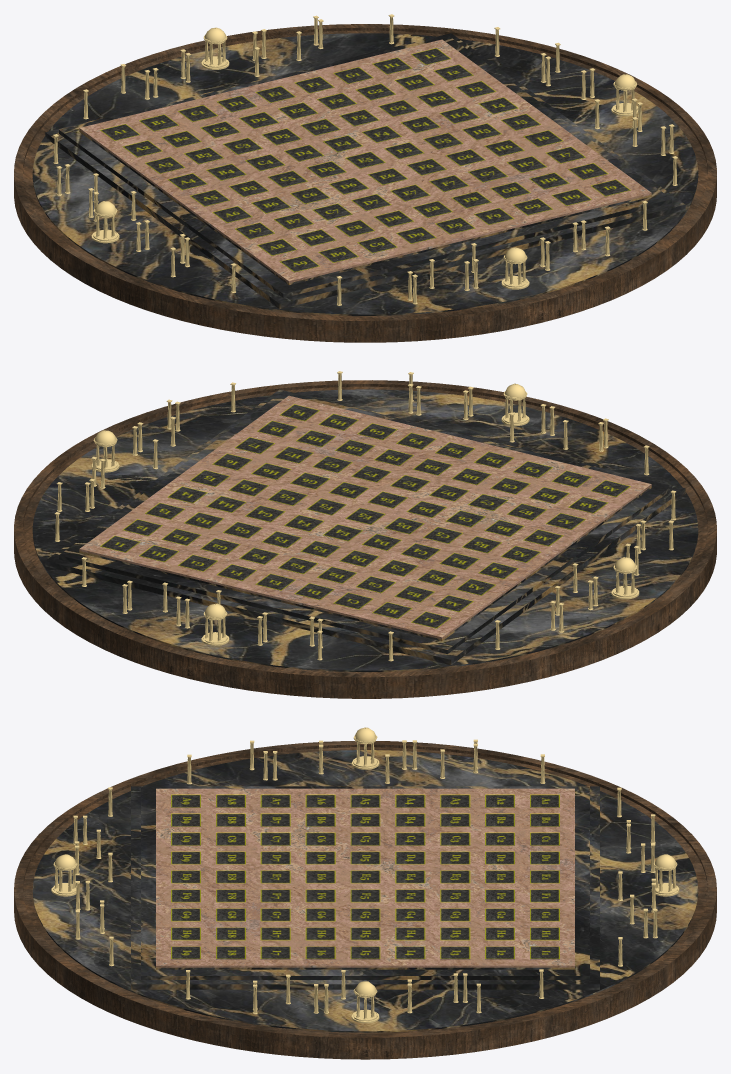
The model's file is tablero9.glb.
3 renders of one model, top to bottom at view 1: azimuth 30°, elevation 25°; view 2: azimuth 150°, elevation 25°; view 3: azimuth 270°, elevation 25°, orthographic.
Parts seen in each view (by area): view 1: BaseCircular, Tabla, Casillas, Madera, Adornos, Casillas.002; view 2: BaseCircular, Tabla, Casillas, Madera, Adornos, Casillas.002; view 3: BaseCircular, Tabla, Casillas, Madera, Adornos, Casillas.002.
Boxes of the visible parts, x1,y1,x2,y2 form: BaseCircular: (32,33,698,315); Tabla: (79,39,651,284); Casillas: (100,48,630,272); Madera: (14,24,716,342); Adornos: (53,14,677,305); Casillas.002: (100,48,630,272); BaseCircular: (32,389,698,671); Tabla: (79,395,651,641); Casillas: (100,404,630,628); Madera: (14,380,716,698); Adornos: (54,371,676,661); Casillas.002: (100,404,630,628); BaseCircular: (32,750,698,1032); Tabla: (156,788,574,969); Casillas: (171,795,559,959); Madera: (14,741,716,1059); Adornos: (51,727,679,1023); Casillas.002: (171,794,559,958).
Size of the model in its own units: 47 by 4.19 by 47.
6 materials, 5 textured.
